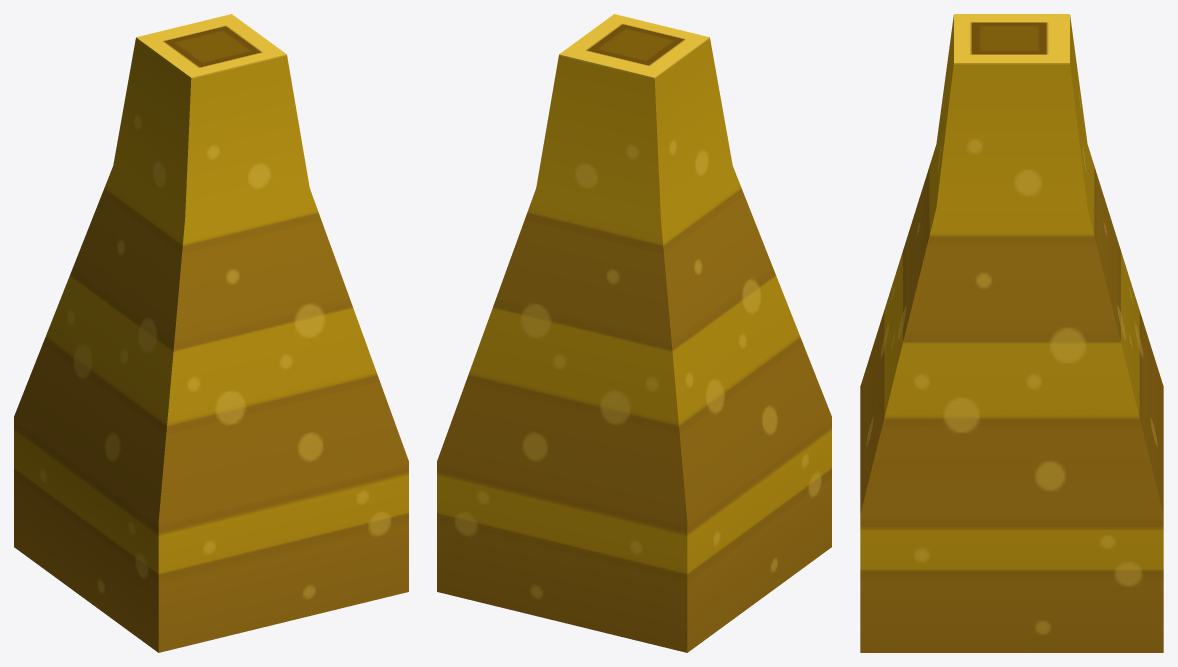
File: BG_009_coral.FBX
3 views of the same model, side by side, from view 1: azimuth 30°, elevation 25°; view 2: azimuth 150°, elevation 25°; view 3: azimuth 270°, elevation 25° (orthographic). The views are drawn at different scales.
Visible parts, largest first — view 1: BG_009_coral; view 2: BG_009_coral; view 3: BG_009_coral.
Part boxes in pixels (x1,y1,x2,y2): BG_009_coral: (14, 14, 408, 652); BG_009_coral: (437, 14, 831, 652); BG_009_coral: (860, 14, 1163, 652).
Bounding box in the file's own units: 100 × 200 × 100.
